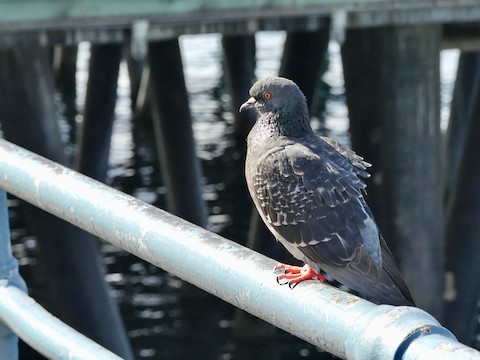pigeon: (234, 67, 422, 316)
